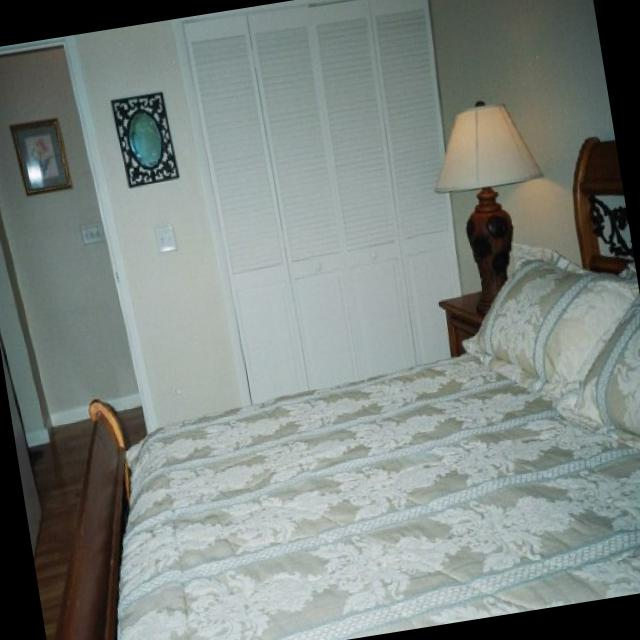bed frame: (60, 131, 640, 640)
closet crop: (183, 0, 463, 405)
floor -X: (29, 335, 640, 640)
lamp crop: (436, 103, 538, 284)
mirror crop: (110, 90, 178, 189)
night table: (446, 282, 503, 355)
picture crop: (6, 116, 71, 195)
switch: (155, 223, 177, 252)
wall clock: (65, 0, 640, 432), (0, 44, 134, 557)
